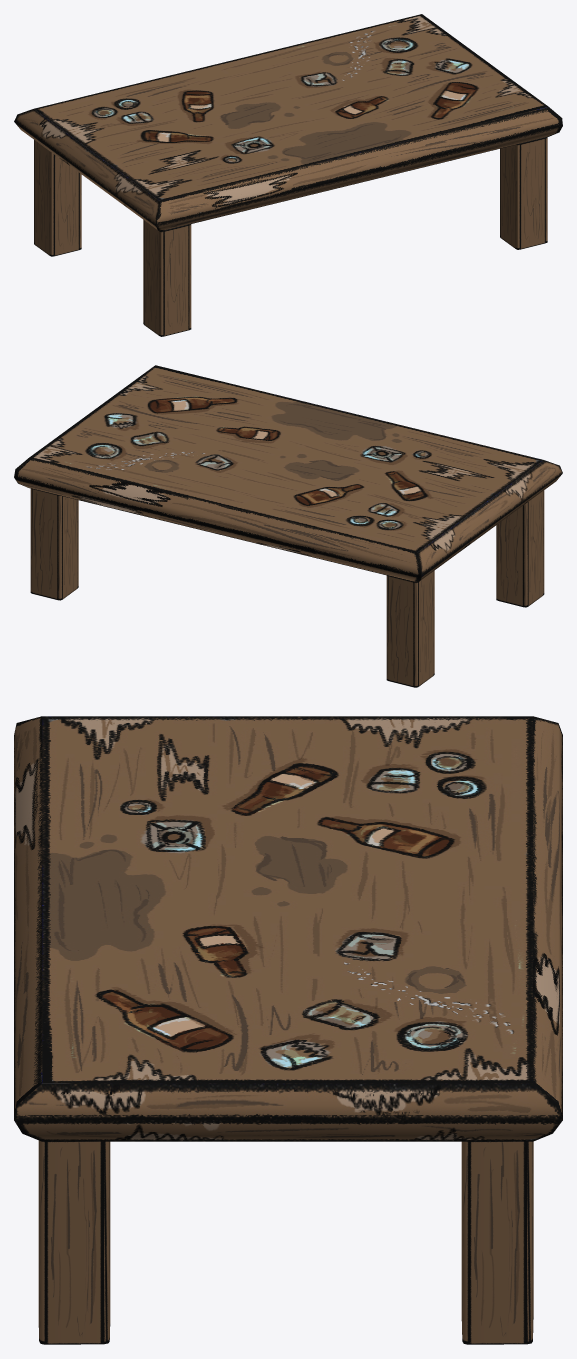
File: Table_Future.fbx
3 views of the same model, one above another, from view 1: azimuth 30°, elevation 25°; view 2: azimuth 150°, elevation 25°; view 3: azimuth 270°, elevation 25° (orthographic). The views are drawn at different scales.
Parts seen in each view (by area): view 1: pCube2, pasted__pCube3, pasted__pCube4, pasted__pCube2; view 2: pCube2, pasted__pCube2, pasted__pCube5, pasted__pCube3; view 3: pCube2, pasted__pCube4, pasted__pCube5.
Part boxes in pixels (<box>): pCube2: <box>14,14,562,231</box>; pasted__pCube3: <box>143,220,191,336</box>; pasted__pCube4: <box>500,137,547,249</box>; pasted__pCube2: <box>34,140,81,256</box>; pCube2: <box>14,365,562,582</box>; pasted__pCube2: <box>386,570,434,687</box>; pasted__pCube5: <box>30,488,78,600</box>; pasted__pCube3: <box>496,490,544,607</box>; pCube2: <box>14,716,562,1141</box>; pasted__pCube4: <box>38,1140,110,1344</box>; pasted__pCube5: <box>461,1141,533,1344</box>.
Size of the model in its own units: 8.05 by 2.55 by 4.85.
Materials: 2 (2 with a texture image).
